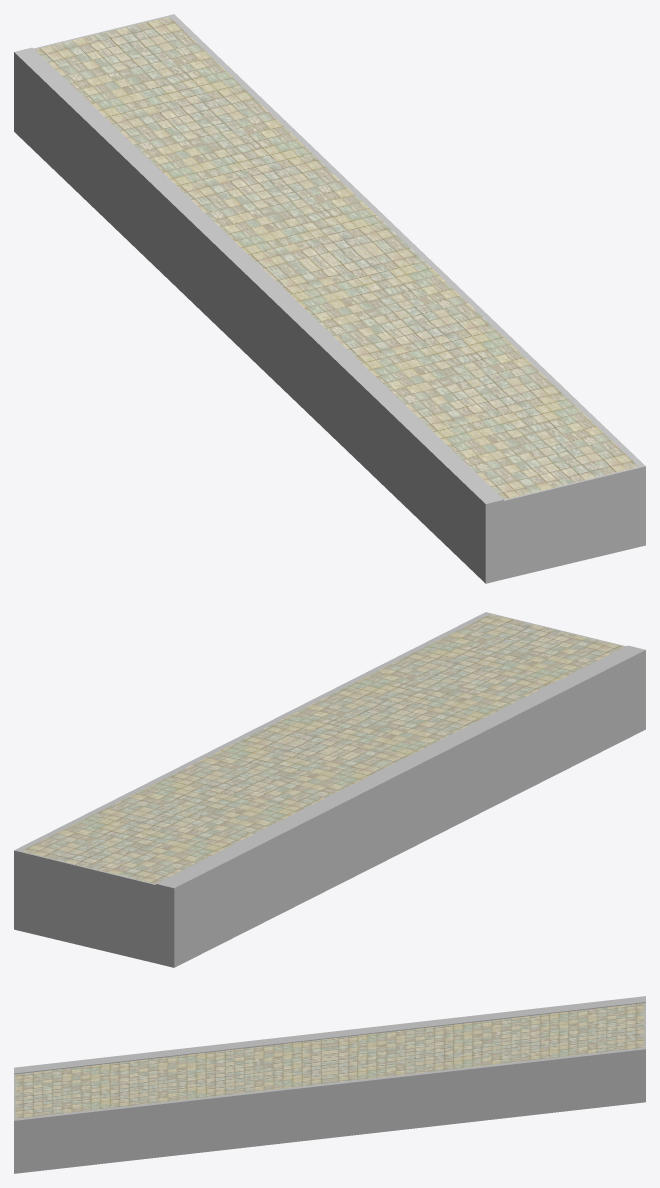
Rendered from road_w01b_sl.fbx.
3 renders of one model, top to bottom at view 1: azimuth 30°, elevation 25°; view 2: azimuth 150°, elevation 25°; view 3: azimuth 270°, elevation 25°, orthographic. The views are drawn at different scales.
Visible parts, largest first — view 1: road_w01b_sl; view 2: road_w01b_sl; view 3: road_w01b_sl.
Part boxes in pixels (x1=…): road_w01b_sl: x1=14, y1=14, x2=645, y2=583; road_w01b_sl: x1=14, y1=612, x2=645, y2=967; road_w01b_sl: x1=14, y1=996, x2=645, y2=1173.
Bounding box in the file's own units: 4.71 × 5.26 × 24.
